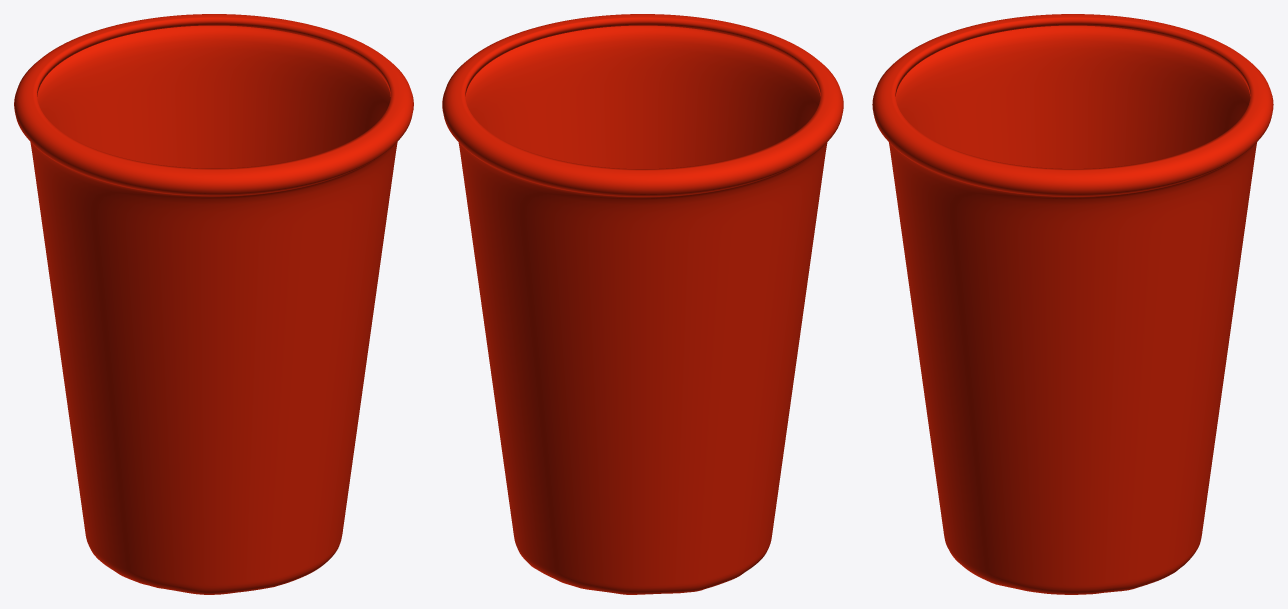
Rendered from CUP.fbx.
3 renders of one model, left to right at view 1: azimuth 30°, elevation 25°; view 2: azimuth 150°, elevation 25°; view 3: azimuth 270°, elevation 25°, orthographic.
Parts seen in each view (by area): view 1: Circle; view 2: Circle; view 3: Circle.
Boxes of the visible parts, x1,y1,x2,y2 form: Circle: [14, 14, 413, 594]; Circle: [442, 14, 843, 594]; Circle: [872, 14, 1273, 594].
Size of the model in its own units: 270 by 337 by 270.
